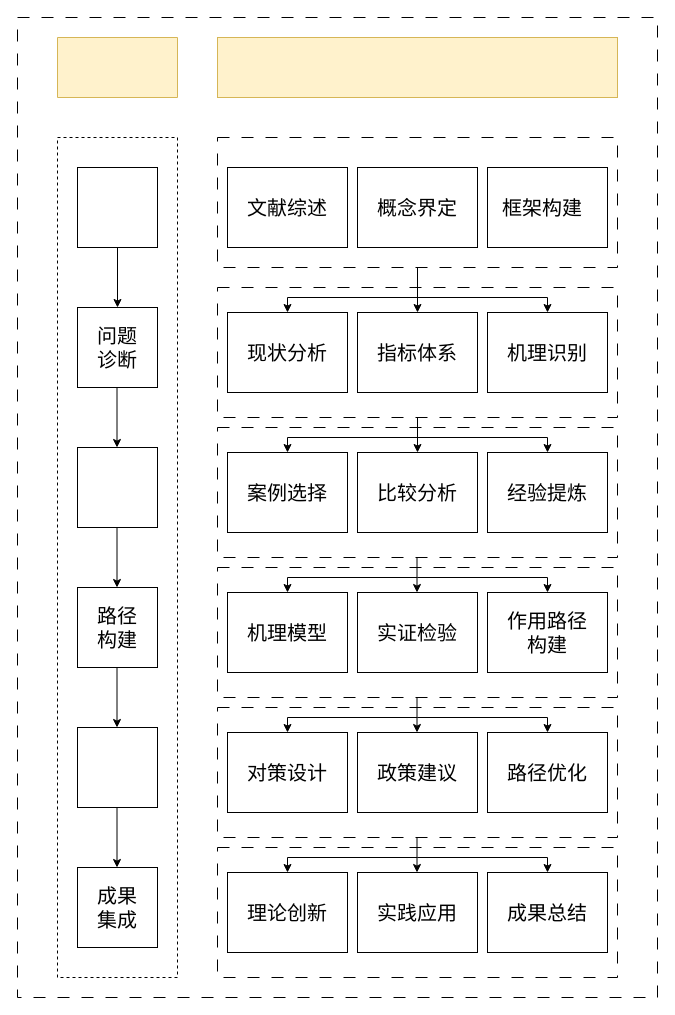
This 675x1015 diagram has some shape labels left out. Here are the shapes that lost their labels. From the top down, the centre of each, then its label:
point 117,67: 研究思路
point 417,67: 研究过程
point 117,207: 理论奠基
point 117,487: 经验借鉴
point 117,767: 策略提出
